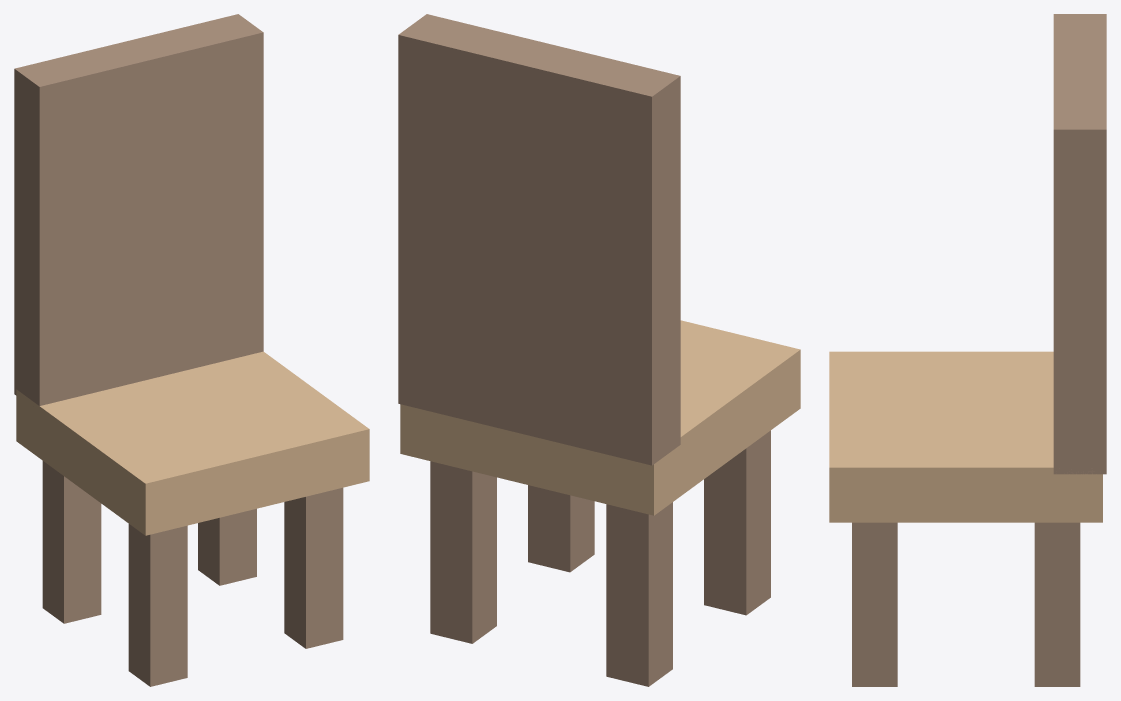
The model's file is dining-chair.glb.
The picture shows the model from 3 angles, left to right: view 1: azimuth 30°, elevation 25°; view 2: azimuth 150°, elevation 25°; view 3: azimuth 270°, elevation 25°; orthographic projection. The views are drawn at different scales.
Visible parts, largest first — view 1: back, seat, leg-3, leg-4, leg-1, leg-2; view 2: back, seat, leg-1, leg-2, leg-3, leg-4; view 3: seat, back, leg-2, leg-4.
Part boxes in pixels (left/top/right/bottom): back: left=14, top=14, right=263, bottom=405; seat: left=16, top=351, right=369, bottom=535; leg-3: left=128, top=524, right=187, bottom=686; leg-4: left=284, top=487, right=343, bottom=648; leg-1: left=42, top=461, right=101, bottom=623; leg-2: left=198, top=508, right=256, bottom=585; back: left=398, top=14, right=680, bottom=465; seat: left=400, top=320, right=800, bottom=515; leg-1: left=606, top=502, right=672, bottom=686; leg-2: left=430, top=461, right=496, bottom=643; leg-3: left=704, top=430, right=770, bottom=615; leg-4: left=528, top=485, right=594, bottom=572; seat: left=829, top=351, right=1102, bottom=522; back: left=1053, top=14, right=1106, bottom=474; leg-2: left=1034, top=522, right=1080, bottom=686; leg-4: left=852, top=522, right=897, bottom=686.
Size of the model in its own units: 0.72 by 1.64 by 0.73.
